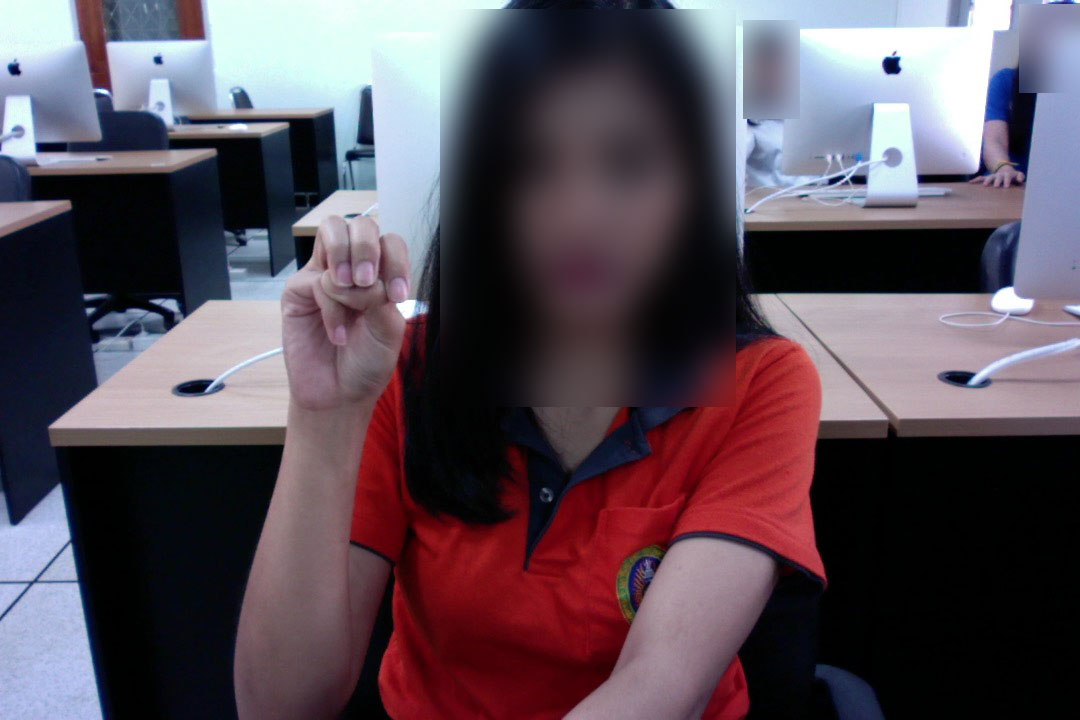mor: (270, 212, 416, 427)
